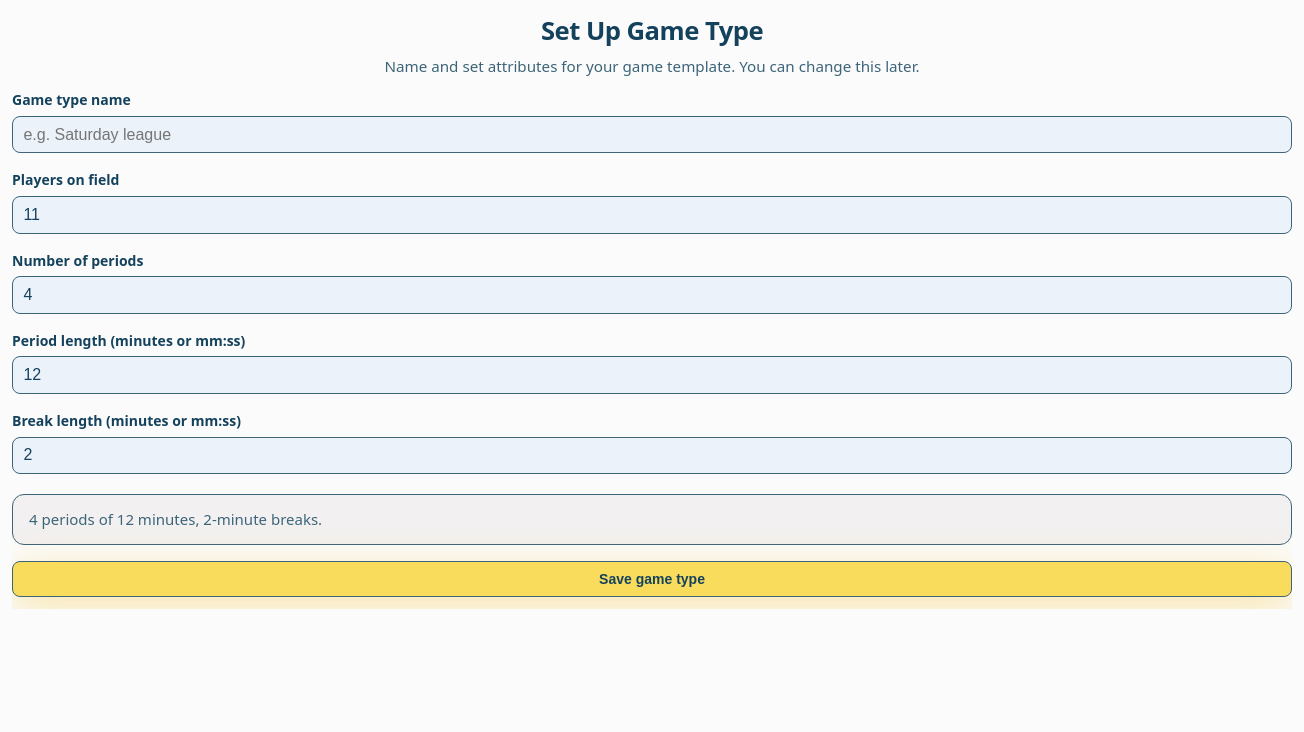
TimerConfigForm › shows duplicate name message when saving twice
Type "Dup" into the field labelled "Game type name" at (652, 135), box [12, 116, 1292, 154]
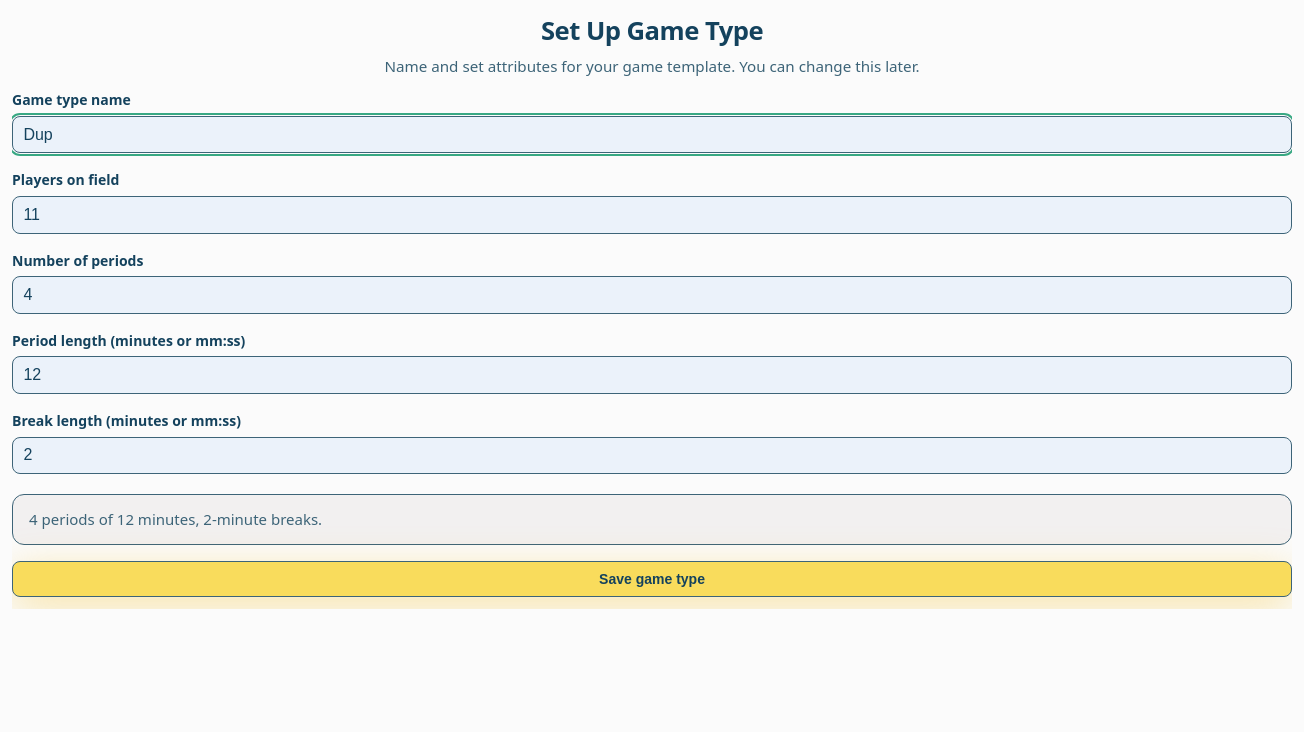
Click the button "Save game type" at (652, 579), box [12, 561, 1292, 597]
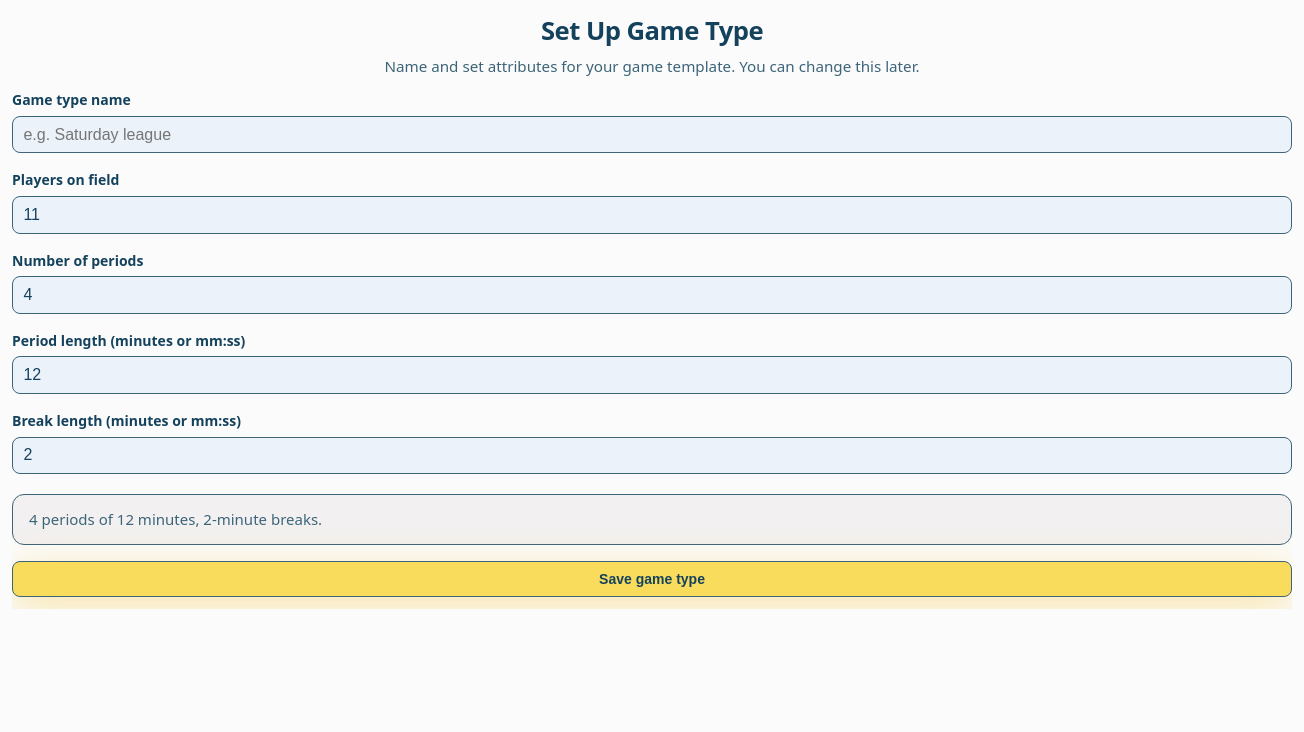
Type "Dup" into the field labelled "Game type name" at (652, 135), box [12, 116, 1292, 154]
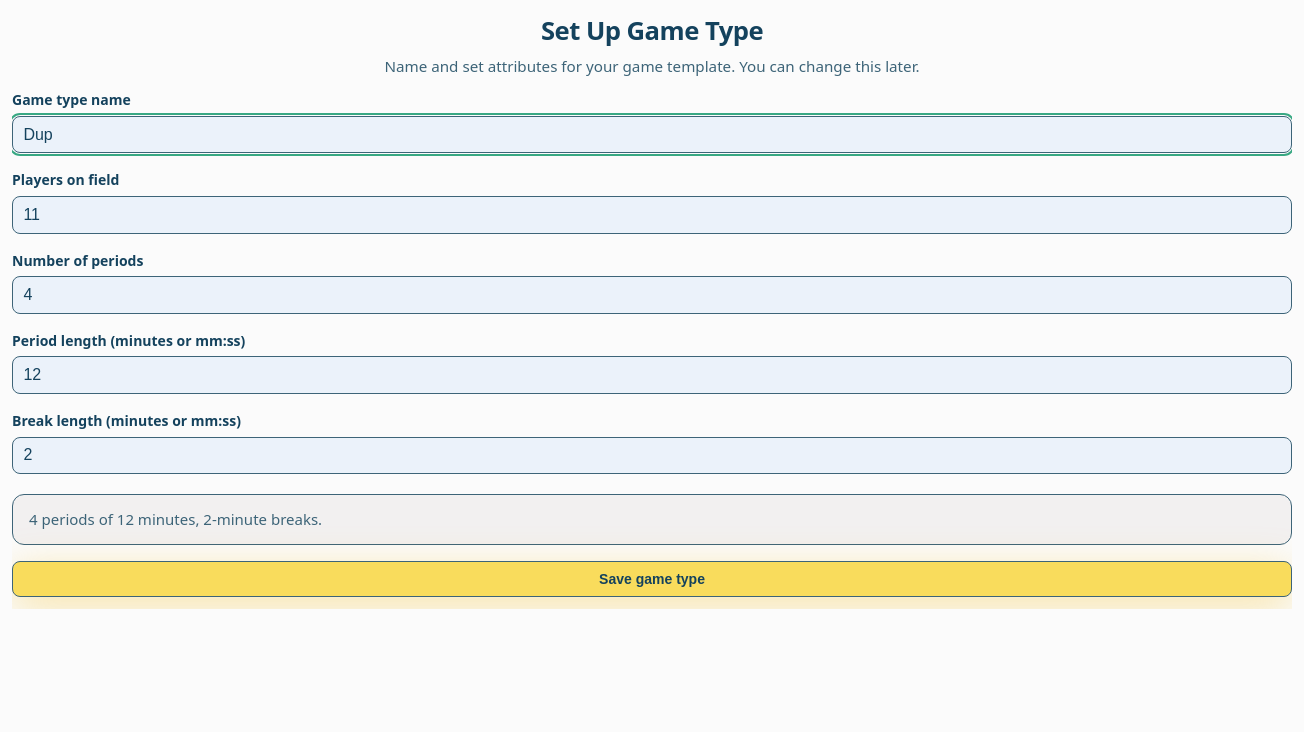
Click the button "Save game type" at (652, 579), box [12, 561, 1292, 597]
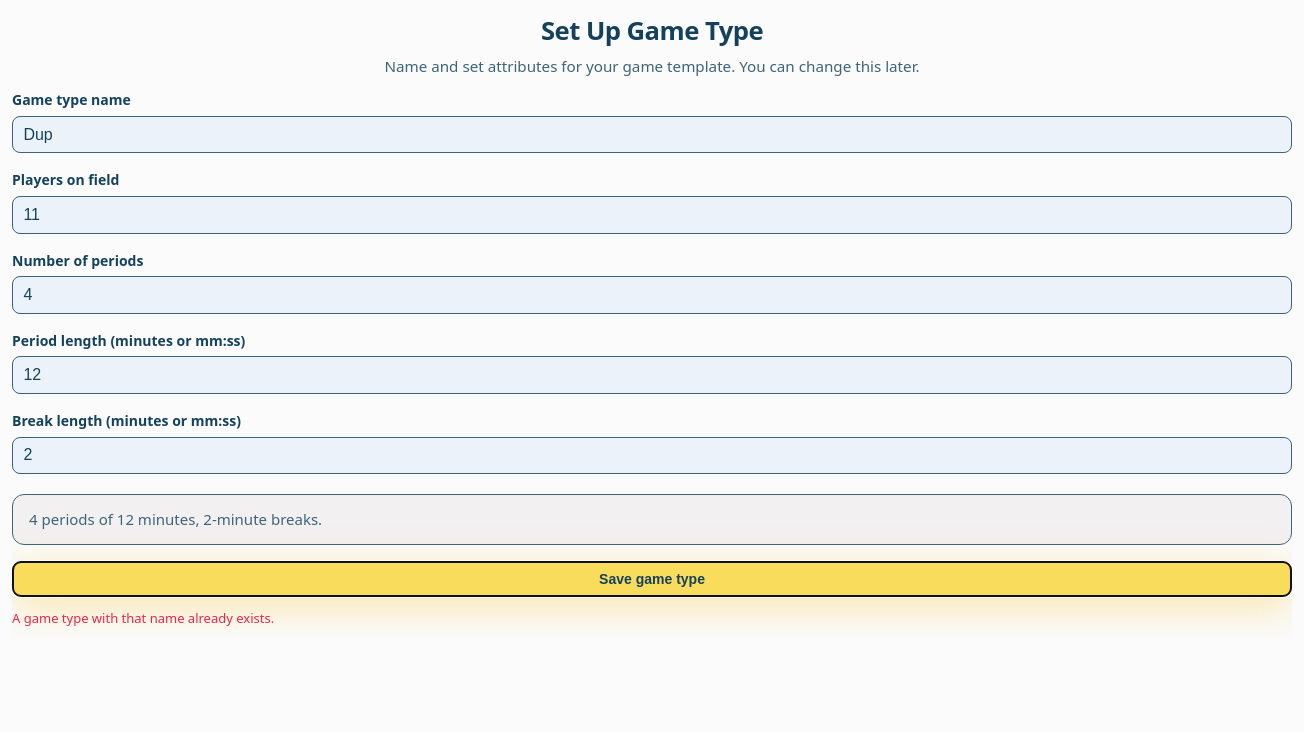
Result: the message shows "already exists" at [12, 609, 274, 627]
